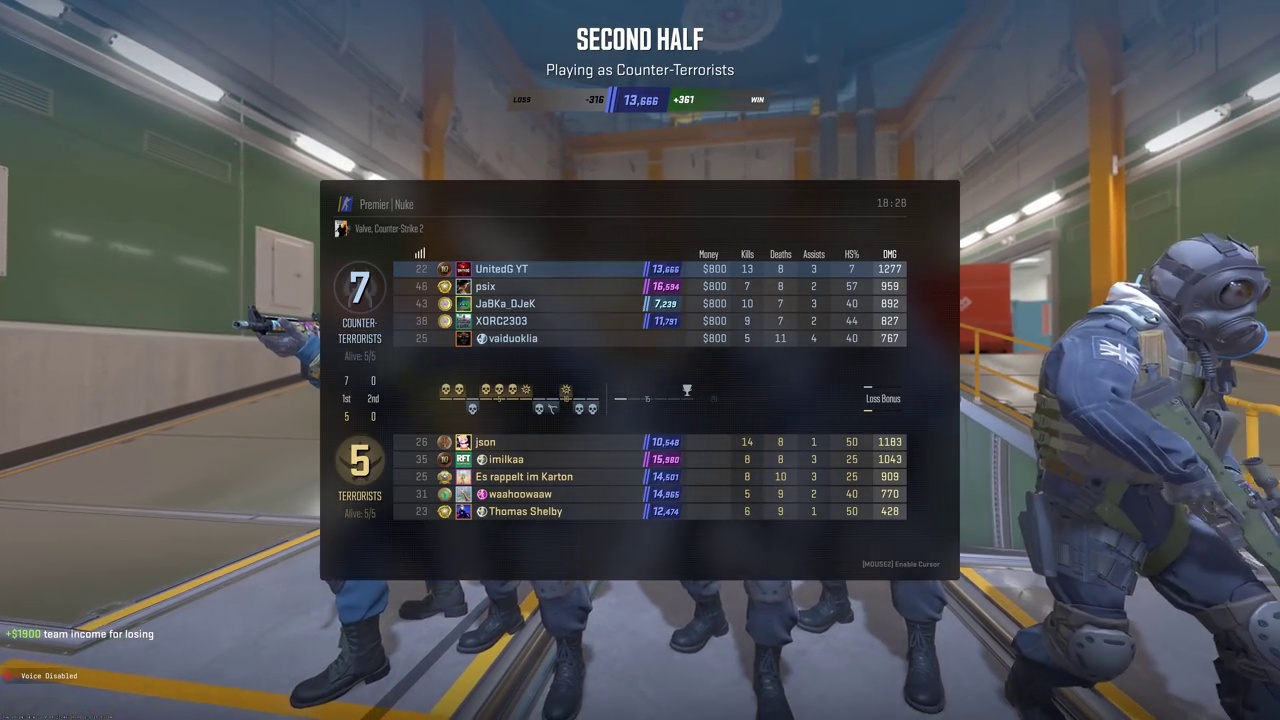CT: (1031, 232, 1280, 716)
